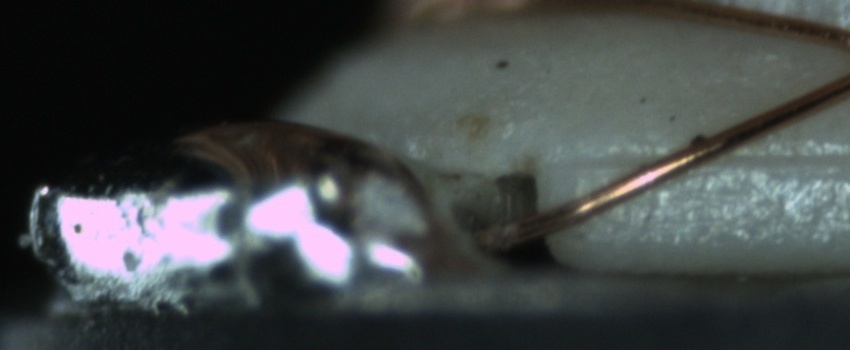DL: (571, 127, 840, 190)
